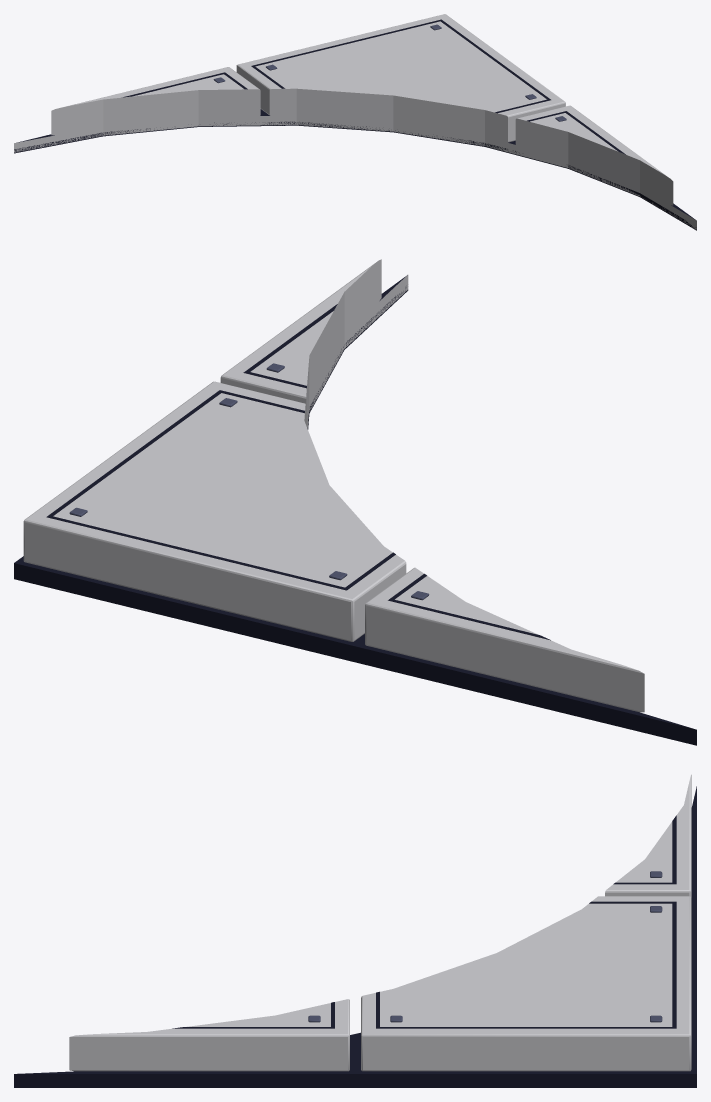
The model's file is roof.arc2c.light.glb.
The picture shows the model from 3 angles, top to bottom: view 1: azimuth 30°, elevation 25°; view 2: azimuth 150°, elevation 25°; view 3: azimuth 270°, elevation 25°; orthographic projection. The views are drawn at different scales.
Parts seen in each view (by area): view 1: GEO-roof.arc2c.light; view 2: GEO-roof.arc2c.light; view 3: GEO-roof.arc2c.light.
Part boxes in pixels (x1,y1,x2,y2): GEO-roof.arc2c.light: [14, 14, 696, 230]; GEO-roof.arc2c.light: [14, 259, 696, 745]; GEO-roof.arc2c.light: [14, 774, 696, 1087].
Size of the model in its own units: 2 by 0.17 by 2.
